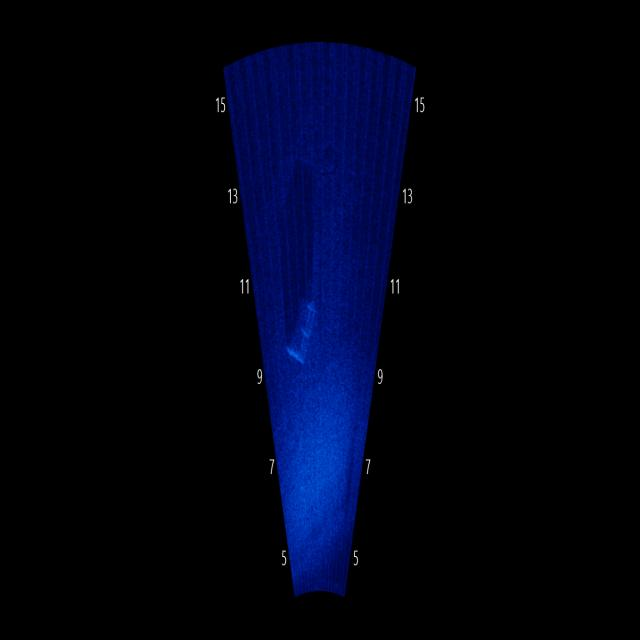square: (282, 290, 334, 378)
